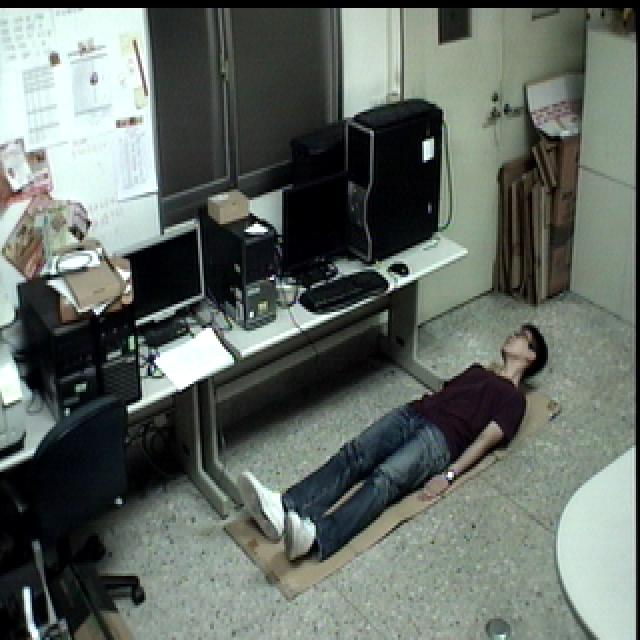lie: (236, 319, 556, 570)
